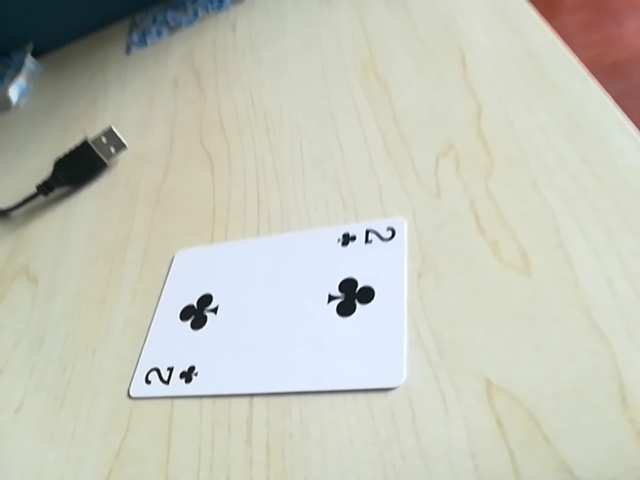mh 2: (134, 360, 203, 395), (337, 222, 401, 253)
